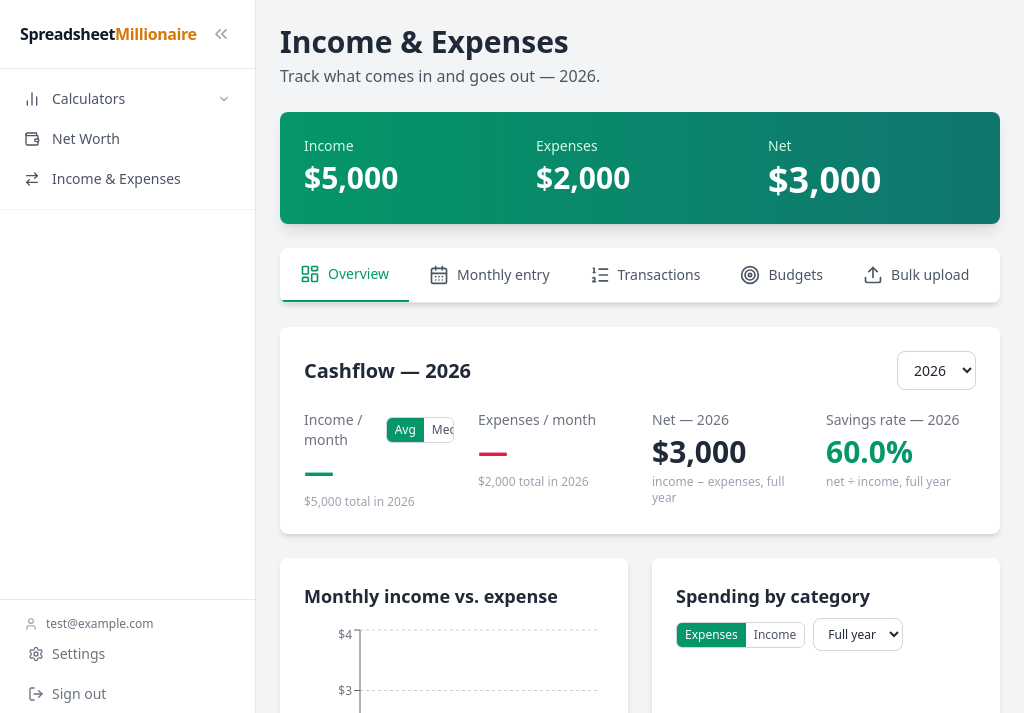
Test: IncomeExpensePage › switches to the Monthly entry tab and renders the grid
Click the button "Monthly entry" at x=489, y=275, box [409,248,570,302]
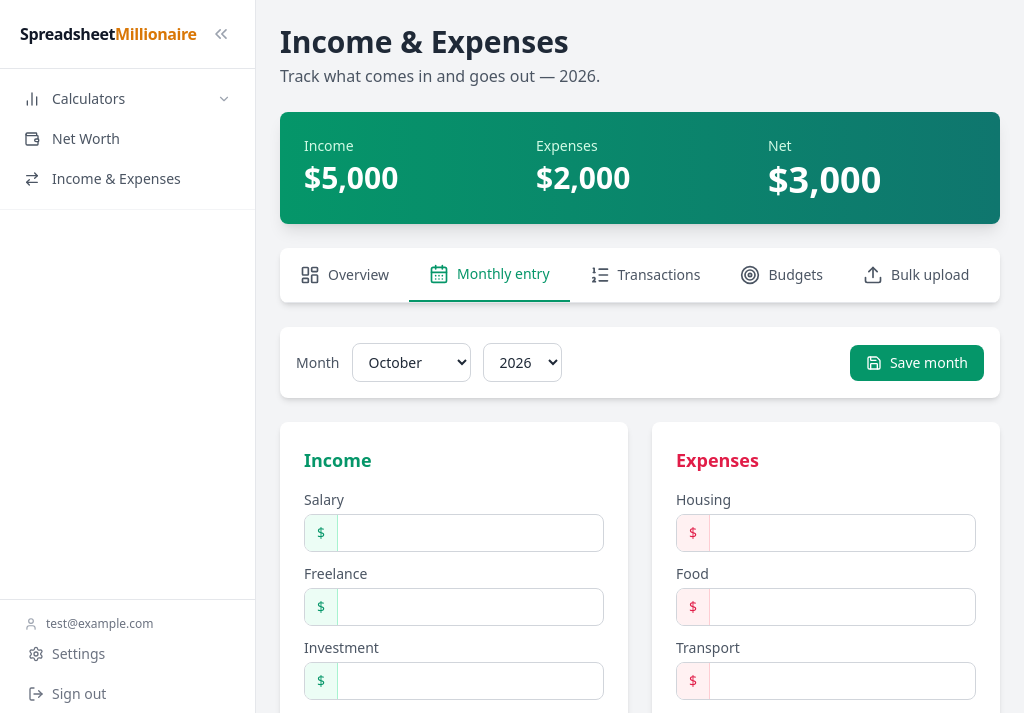
Result: the field labelled "Salary" is shown at [338,515,603,551]
Result: the field labelled "Housing" is shown at [710,515,975,551]
Result: the button "Save month" is shown at [850,344,984,380]
